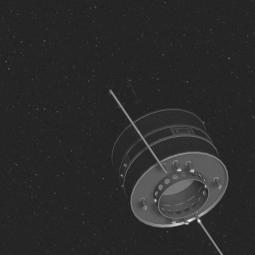double_start: (94, 91, 232, 237)
